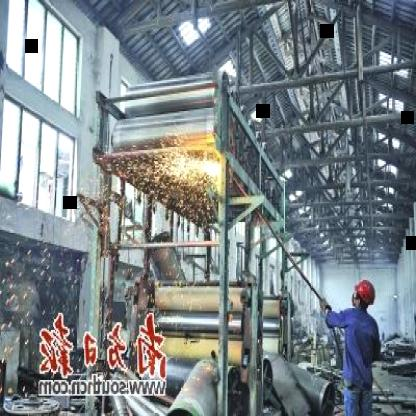helmet: (352, 278, 376, 310)
